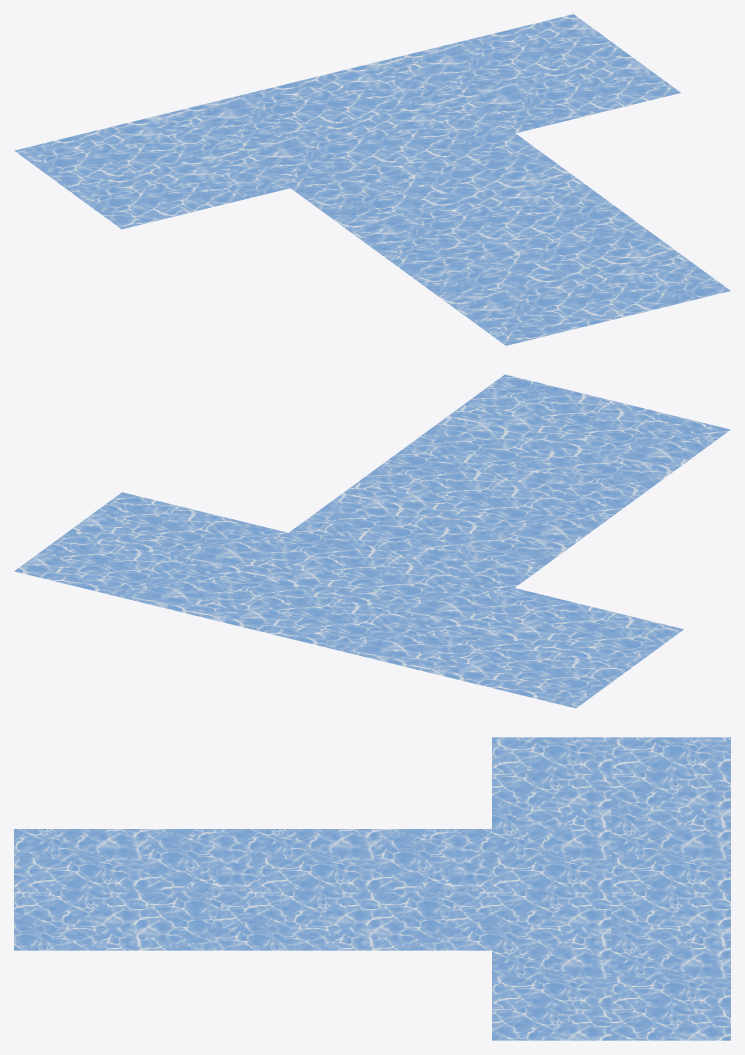
The model's file is river.fbx.
3 views of the same model, one above another, from view 1: azimuth 30°, elevation 25°; view 2: azimuth 150°, elevation 25°; view 3: azimuth 270°, elevation 25° (orthographic). The views are drawn at different scales.
Visible parts, largest first — view 1: Grid; view 2: Grid; view 3: Grid.
Part boxes in pixels (x1,y1,x2,y2): Grid: (14,14,730,345); Grid: (14,374,730,708); Grid: (14,737,730,1040).
Size of the model in its own units: 100000 by 0.0163 by 100000.
1 material, 1 textured.
